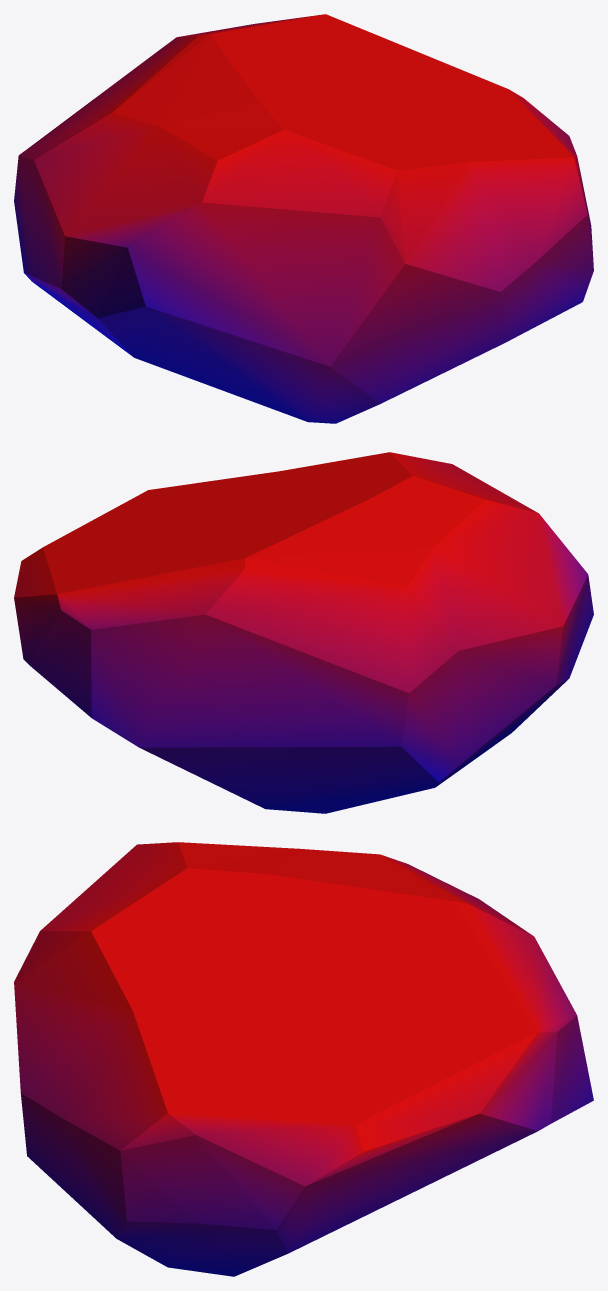
Rendered from SM_Rock_02.fbx.
The picture shows the model from 3 angles, top to bottom: view 1: azimuth 30°, elevation 25°; view 2: azimuth 150°, elevation 25°; view 3: azimuth 270°, elevation 25°; orthographic projection. The views are drawn at different scales.
Visible parts, largest first — view 1: rock_b_geo; view 2: rock_b_geo; view 3: rock_b_geo.
Boxes of the visible parts, x1,y1,x2,y2 form: rock_b_geo: [14, 14, 593, 423]; rock_b_geo: [14, 452, 593, 813]; rock_b_geo: [14, 842, 593, 1276].
Bounding box in the file's own units: 153 × 80.17 × 135.
